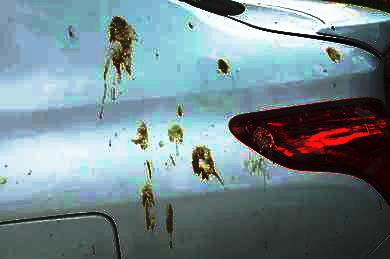Bird Poop: (97, 16, 134, 118), (193, 146, 222, 183), (252, 126, 275, 155), (168, 124, 183, 163), (132, 122, 149, 151), (142, 186, 153, 230), (166, 205, 171, 247), (327, 48, 339, 61), (218, 59, 228, 73), (146, 161, 151, 177), (68, 26, 72, 37), (328, 25, 334, 30), (178, 106, 181, 116)
